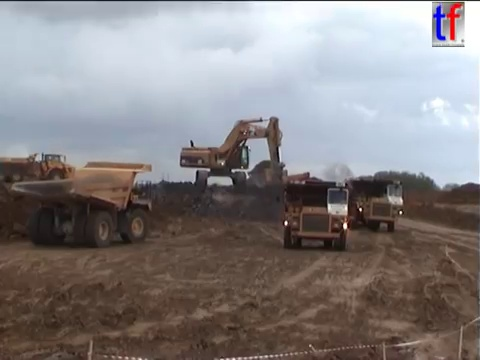excavator: (178, 115, 291, 193), (249, 171, 327, 200)
truck: (8, 160, 153, 248), (304, 177, 404, 233), (280, 178, 349, 251), (1, 151, 76, 186)
